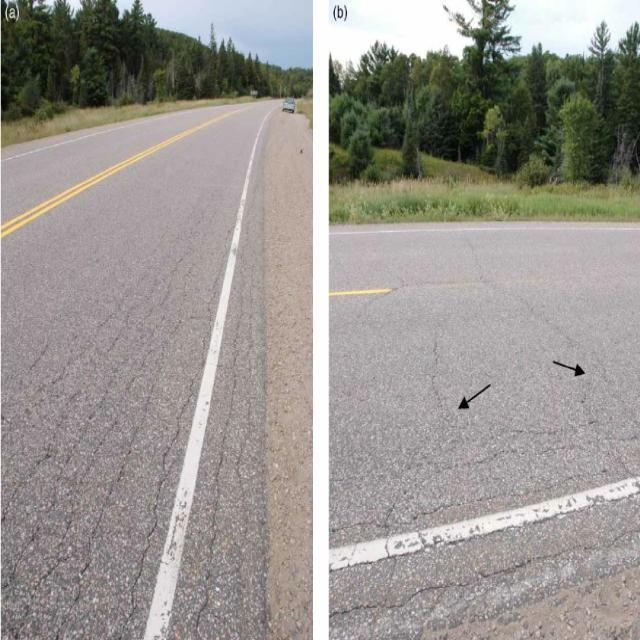Pothole: (339, 447, 640, 640), (224, 101, 309, 640)
